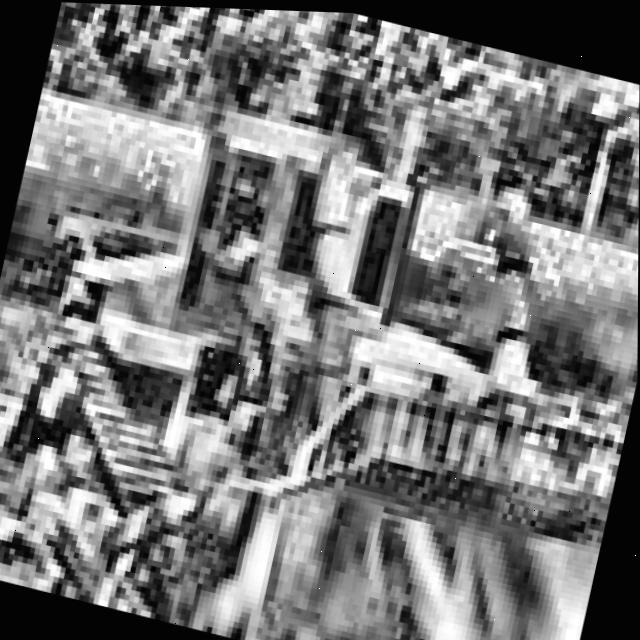buldozerpayloadergrader: (0, 29, 640, 640)
